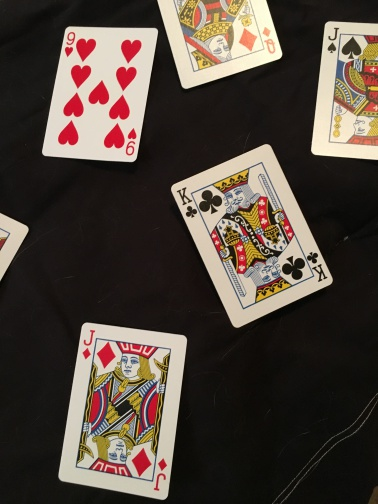jack: (56, 322, 188, 497), (309, 21, 378, 159)
king: (168, 144, 335, 329)
nine: (40, 23, 159, 165)
queen: (155, 1, 287, 93)
